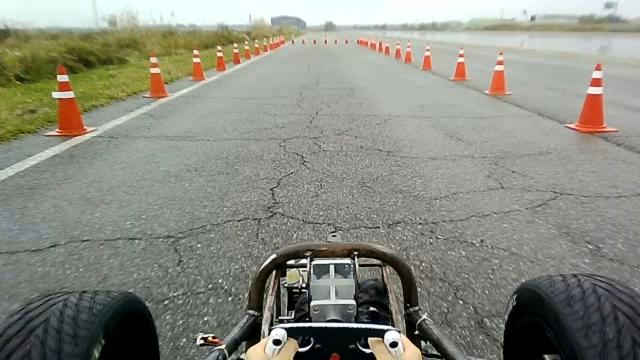red cone: (43, 63, 97, 137), (564, 62, 618, 134), (483, 50, 513, 96), (143, 51, 170, 99), (451, 46, 474, 81), (188, 47, 206, 81), (215, 44, 228, 72), (420, 42, 433, 70), (403, 40, 413, 63), (232, 42, 242, 64), (393, 40, 402, 60), (243, 40, 252, 59)
